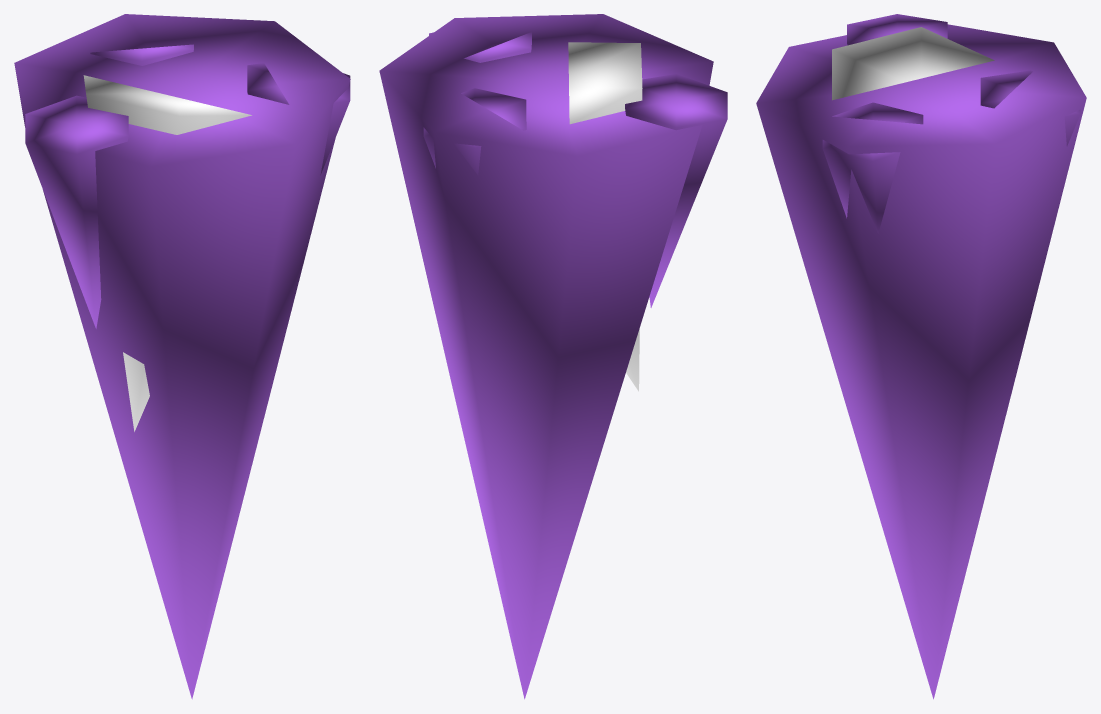
Rendered from Icicle.glb.
3 renders of one model, left to right at view 1: azimuth 30°, elevation 25°; view 2: azimuth 150°, elevation 25°; view 3: azimuth 270°, elevation 25°, orthographic. The views are drawn at different scales.
Visible parts, largest first — view 1: Body, Crown; view 2: Body, Crown; view 3: Body, Crown.
Boxes of the visible parts, <box> form: Body: <box>14,14,350,699</box>; Crown: <box>25,44,350,431</box>; Body: <box>379,14,713,699</box>; Crown: <box>423,32,727,391</box>; Body: <box>756,24,1086,699</box>; Crown: <box>822,14,1080,233</box>.
Bounding box in the file's own units: 0.4053 × 0.7904 × 0.3821.
1 material, 1 textured.
